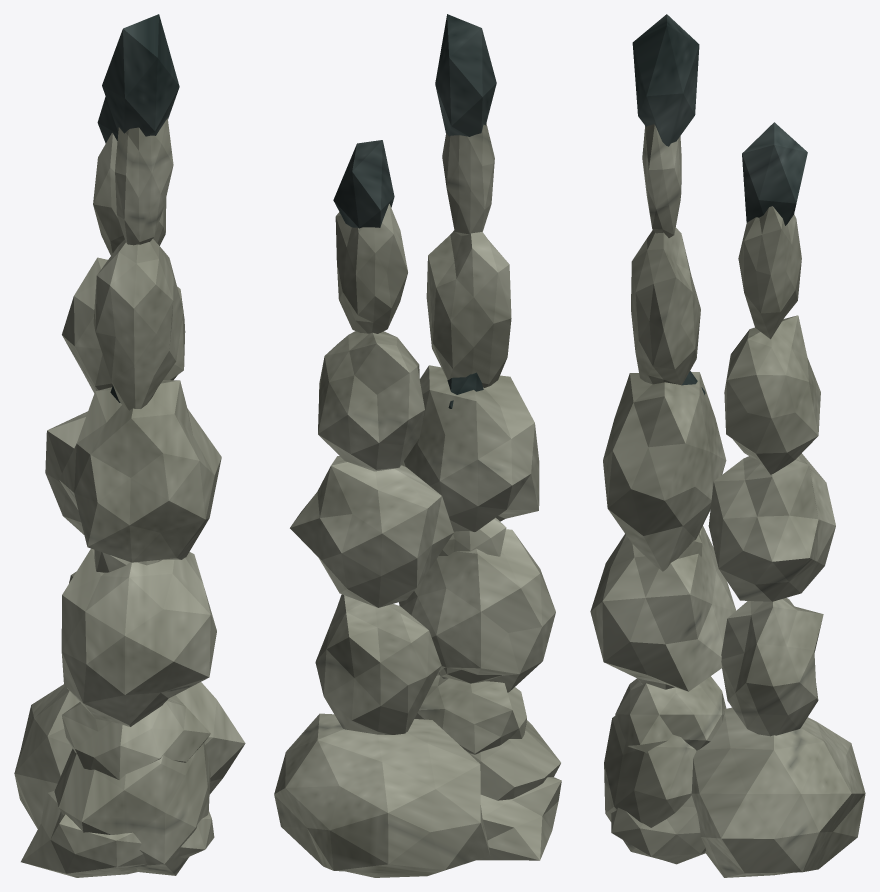
File: 0064_rock_spire_14.glb
The picture shows the model from 3 angles, left to right: view 1: azimuth 30°, elevation 25°; view 2: azimuth 150°, elevation 25°; view 3: azimuth 270°, elevation 25°; orthographic projection. The views are drawn at different scales.
Visible parts, largest first — view 1: stone_light, stone_dark; view 2: stone_light, stone_dark; view 3: stone_light, stone_dark.
Boxes of the visible parts, <box> form: stone_light: <box>14,118,245,877</box>; stone_dark: <box>97,14,179,402</box>; stone_light: <box>274,123,561,877</box>; stone_dark: <box>333,14,496,408</box>; stone_light: <box>590,124,865,877</box>; stone_dark: <box>632,14,807,394</box>.
Size of the model in its own units: 0.8947 by 3.16 by 0.9383.
Materials: 2 (2 with a texture image).
